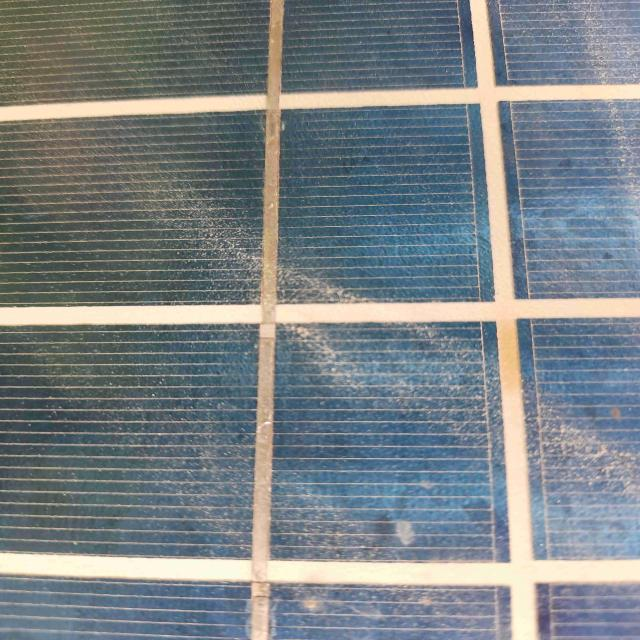dust-solar-panel: (2, 0, 638, 640)
